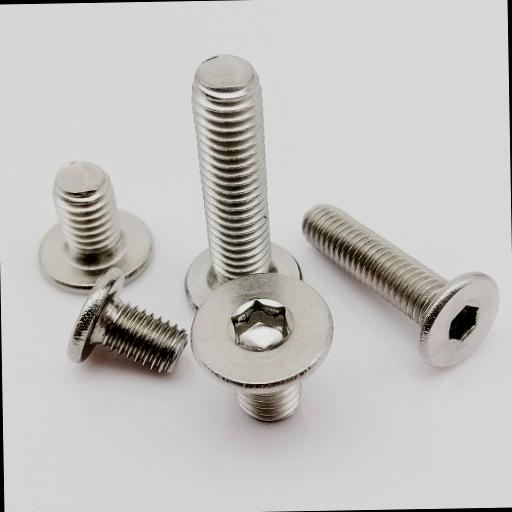Hex-Allen: (187, 276, 336, 388)
